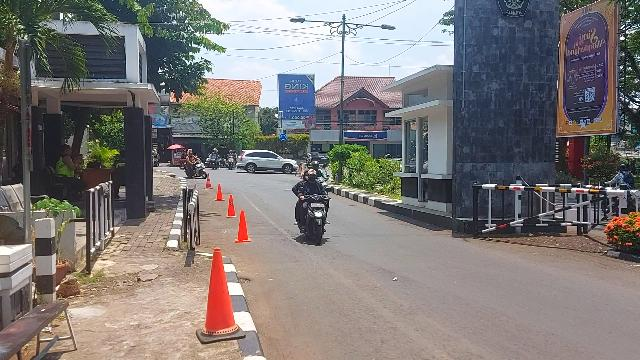helm: (313, 162, 321, 171)
motor: (295, 188, 334, 247)
non-helm: (309, 170, 318, 184), (305, 170, 312, 183)
